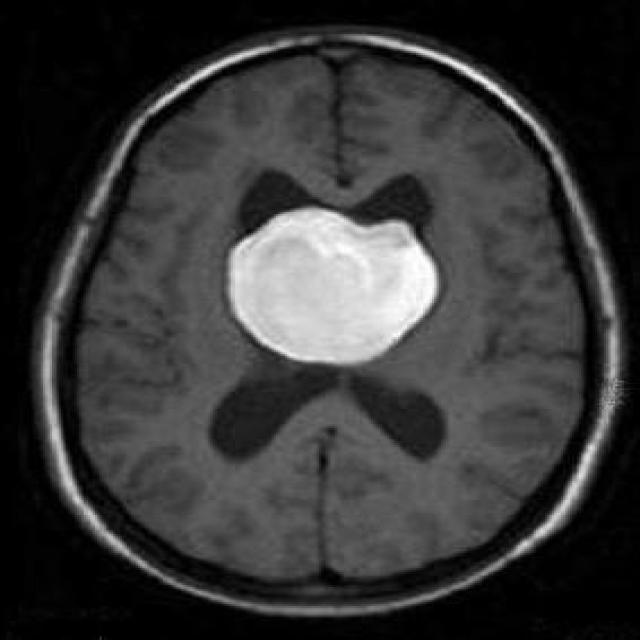Tumor-Cell: (209, 218, 445, 364)
